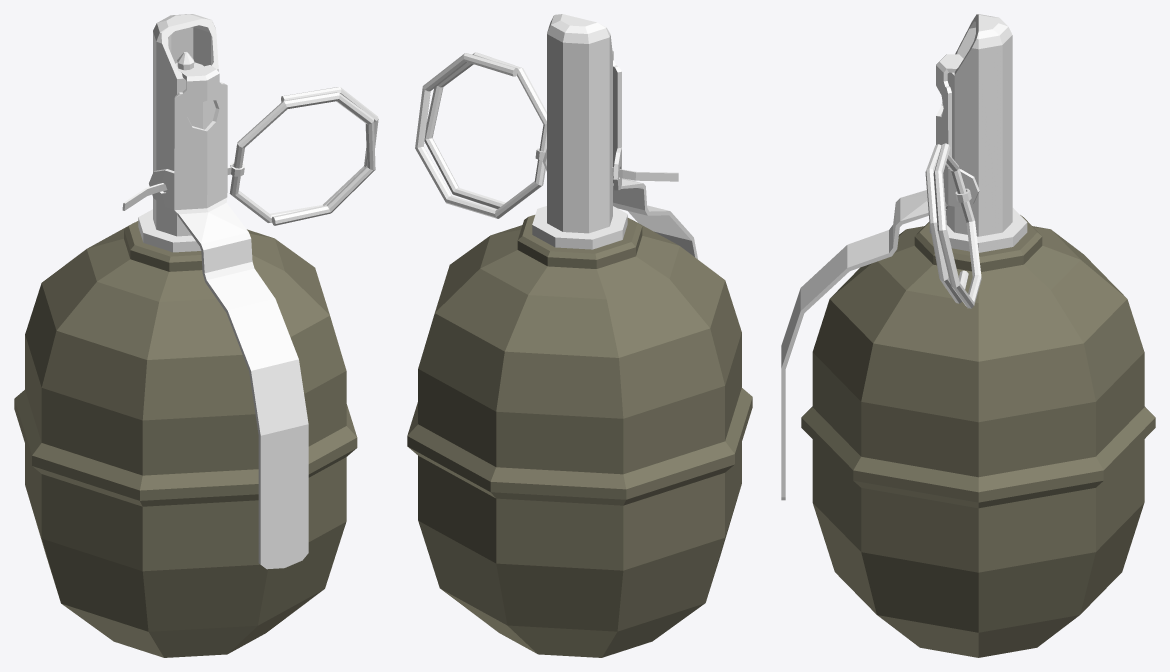
The model's file is rgd-5.glb.
3 views of the same model, side by side, from view 1: azimuth 30°, elevation 25°; view 2: azimuth 150°, elevation 25°; view 3: azimuth 270°, elevation 25° (orthographic).
Parts seen in each view (by area): view 1: rgd-5.001_3, uzrg trigga lever_1, rgd-5_0, uzrg pin_2; view 2: rgd-5.001_3, rgd-5_0, uzrg pin_2, uzrg trigga lever_1; view 3: rgd-5.001_3, rgd-5_0, uzrg trigga lever_1, uzrg pin_2.
Part boxes in pixels (box(x1,y1,x2,y2)): rgd-5.001_3: box(14, 221, 357, 657); uzrg trigga lever_1: box(149, 62, 308, 569); rgd-5_0: box(138, 14, 218, 252); uzrg pin_2: box(122, 87, 378, 225); rgd-5.001_3: box(407, 215, 752, 657); rgd-5_0: box(532, 14, 627, 249); uzrg pin_2: box(415, 52, 678, 218); uzrg trigga lever_1: box(542, 50, 697, 259); rgd-5.001_3: box(801, 215, 1155, 657); rgd-5_0: box(929, 14, 1027, 252); uzrg trigga lever_1: box(781, 54, 979, 500); uzrg pin_2: box(925, 143, 981, 308).
Size of the model in its own units: 0.6197 by 1.12 by 0.6129.
